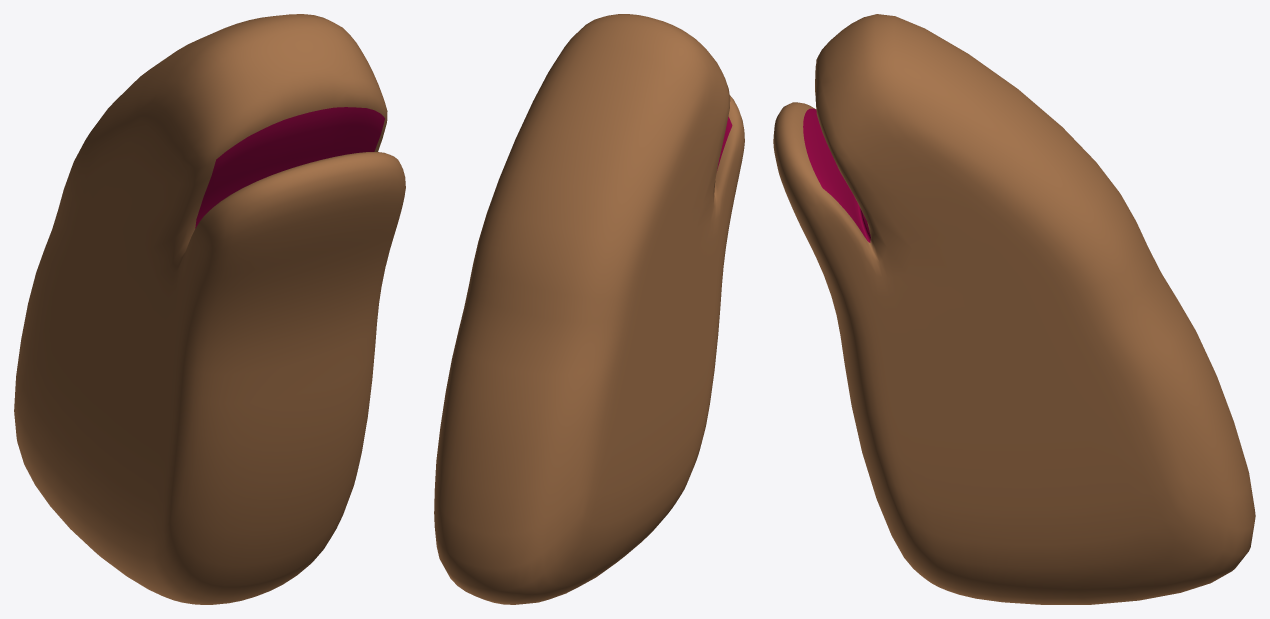
The model's file is Toothless.fbx.
3 renders of one model, left to right at view 1: azimuth 30°, elevation 25°; view 2: azimuth 150°, elevation 25°; view 3: azimuth 270°, elevation 25°, orthographic. The views are drawn at different scales.
Visible parts, largest first — view 1: Toothless - zutomayo (Skorados); view 2: Toothless - zutomayo (Skorados); view 3: Toothless - zutomayo (Skorados).
Boxes of the visible parts, left/top/right/bottom form: Toothless - zutomayo (Skorados): left=14, top=14, right=405, bottom=604; Toothless - zutomayo (Skorados): left=434, top=14, right=744, bottom=604; Toothless - zutomayo (Skorados): left=773, top=14, right=1255, bottom=604.
Bounding box in the file's own units: 30.26 × 93.49 × 72.15.
